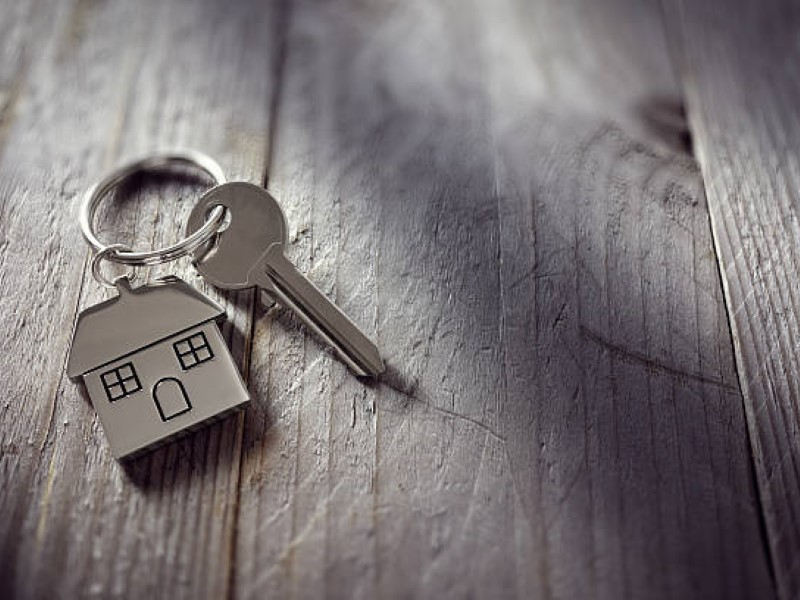key: (178, 173, 389, 385)
